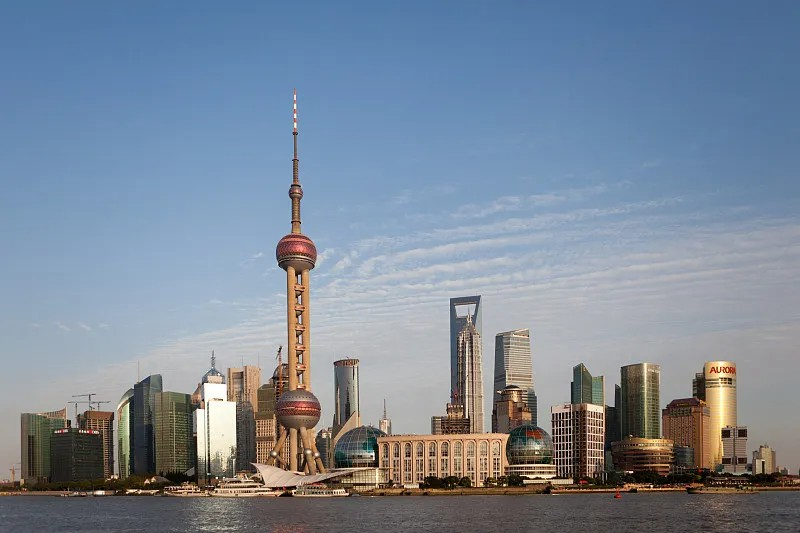Oriental: (265, 87, 323, 474)
